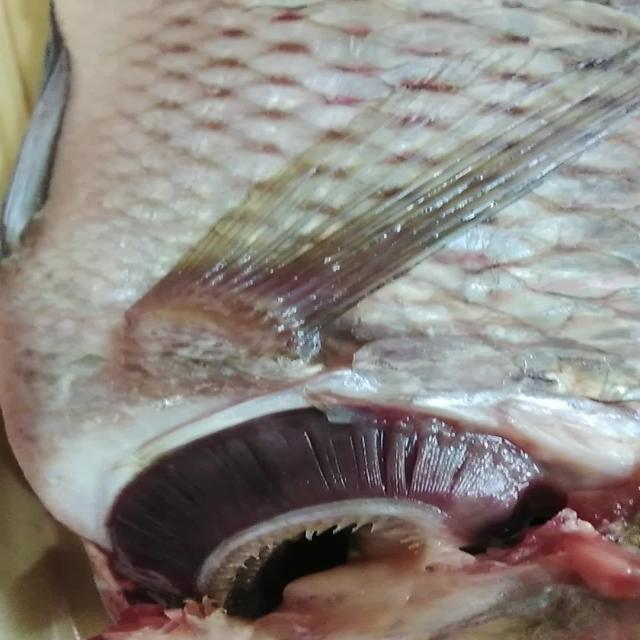Non-Fresh: (83, 379, 551, 609)
